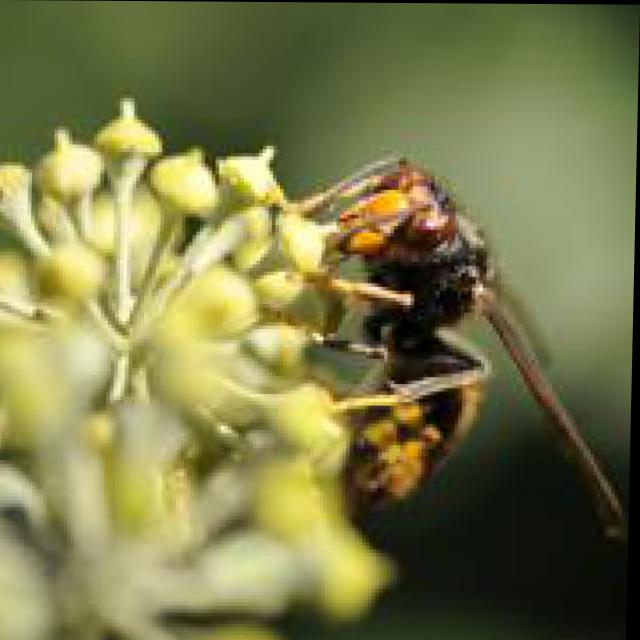Vespa Velutina: (253, 138, 634, 568)
